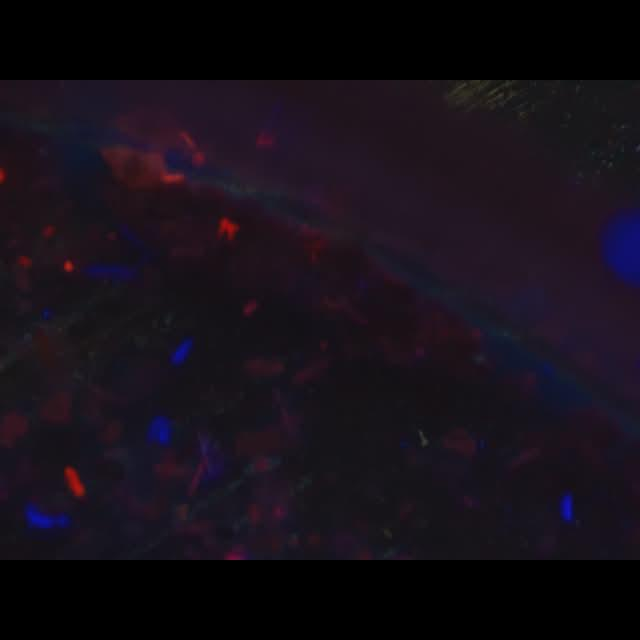Fragment: (64, 466, 85, 497)
